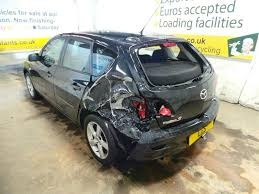Broken-glass: (134, 42, 211, 86), (133, 95, 175, 119)
Smashed: (84, 54, 203, 157)
